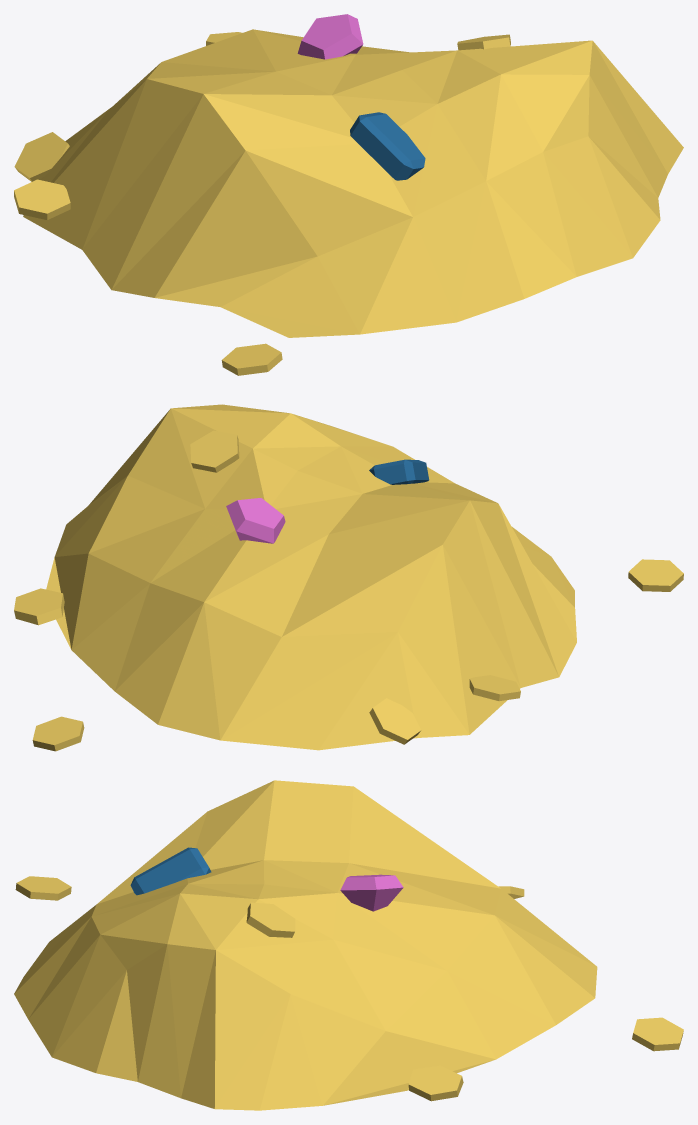
File: Gold_2.fbx
The picture shows the model from 3 angles, top to bottom: view 1: azimuth 30°, elevation 25°; view 2: azimuth 150°, elevation 25°; view 3: azimuth 270°, elevation 25°; orthographic projection. The views are drawn at different scales.
Parts seen in each view (by area): view 1: Gold_2; view 2: Gold_2; view 3: Gold_2.
Part boxes in pixels (x1,y1,x2,y2): Gold_2: (14,14,683,375); Gold_2: (14,404,683,751); Gold_2: (14,780,683,1110).
Bounding box in the file's own units: 112 × 32.29 × 125.
